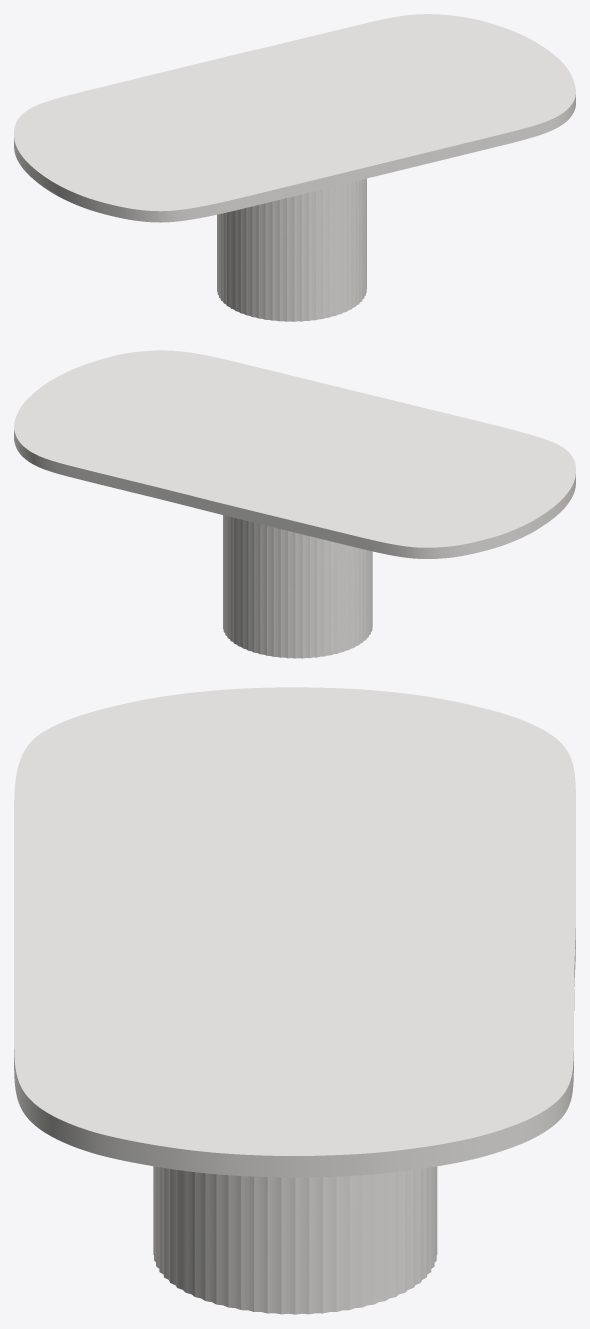
The model's file is purewhite_oval_standard_ripple.glb.
The picture shows the model from 3 angles, top to bottom: view 1: azimuth 30°, elevation 25°; view 2: azimuth 150°, elevation 25°; view 3: azimuth 270°, elevation 25°; orthographic projection. The views are drawn at different scales.
Parts seen in each view (by area): view 1: standard_oval, ripple; view 2: standard_oval, ripple; view 3: standard_oval, ripple.
Part boxes in pixels (bbox=[...]): standard_oval: bbox=[14, 14, 575, 222]; ripple: bbox=[217, 178, 366, 321]; standard_oval: bbox=[14, 350, 575, 558]; ripple: bbox=[223, 515, 372, 658]; standard_oval: bbox=[14, 687, 575, 1177]; ripple: bbox=[153, 1166, 437, 1314].
Size of the model in its own units: 7.5 by 2.5 by 3.8.
1 material, 1 textured.
